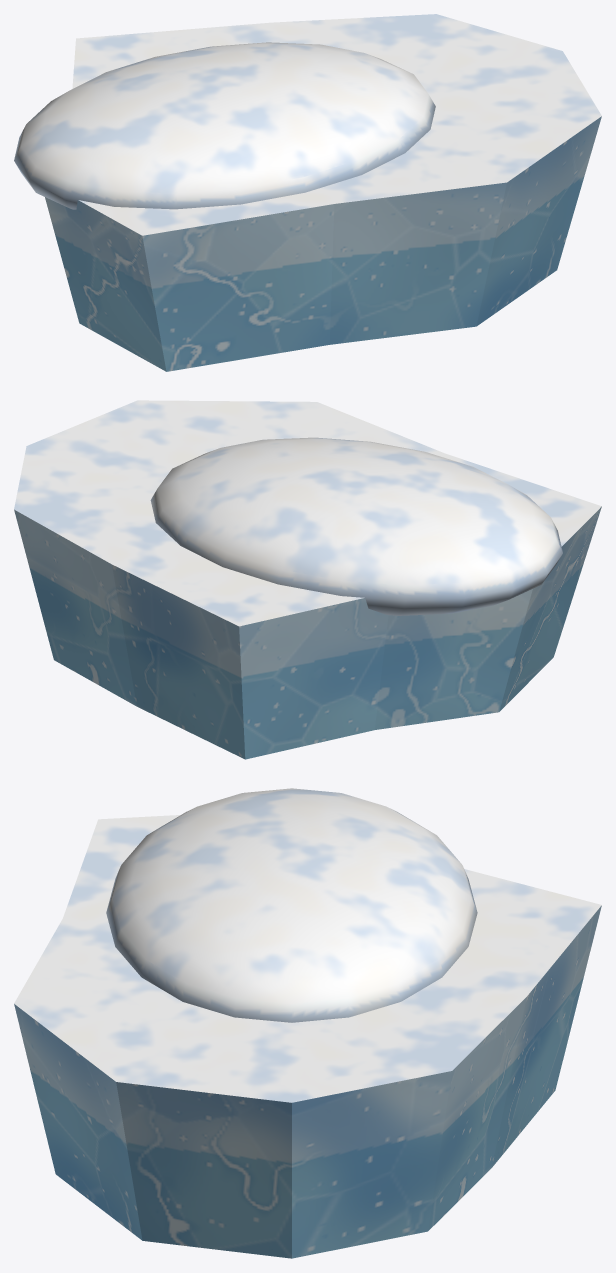
The model's file is ice_floe_b.glb.
The picture shows the model from 3 angles, top to bottom: view 1: azimuth 30°, elevation 25°; view 2: azimuth 150°, elevation 25°; view 3: azimuth 270°, elevation 25°; orthographic projection. The views are drawn at different scales.
Visible parts, largest first — view 1: Floe; view 2: Floe; view 3: Floe.
Boxes of the visible parts, x1=… form: Floe: x1=14, y1=14, x2=601, y2=371; Floe: x1=14, y1=400, x2=601, y2=759; Floe: x1=14, y1=788, x2=601, y2=1258.
Bounding box in the file's own units: 2.06 × 0.759 × 1.71.
Materials: 1 (1 with a texture image).
